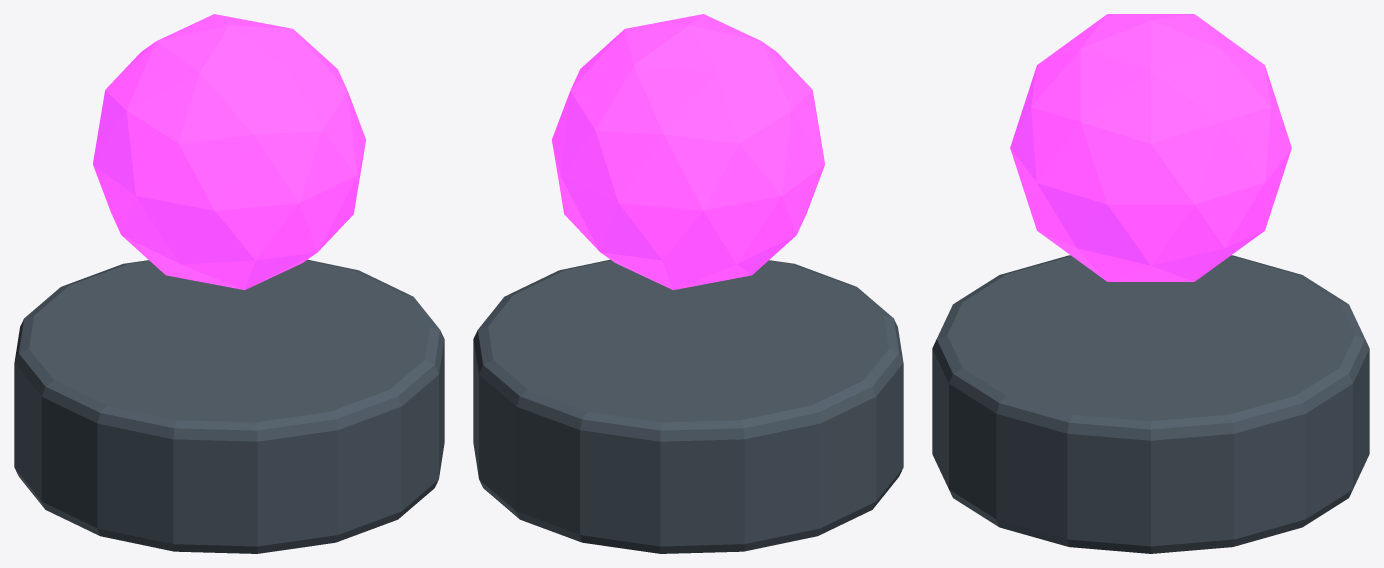
The model's file is Core-Hologram-Dais.glb.
3 renders of one model, left to right at view 1: azimuth 30°, elevation 25°; view 2: azimuth 150°, elevation 25°; view 3: azimuth 270°, elevation 25°, orthographic.
Visible parts, largest first — view 1: Hologram_Dais.001, Core_Hologram.001; view 2: Hologram_Dais.001, Core_Hologram.001; view 3: Hologram_Dais.001, Core_Hologram.001.
Part boxes in pixels (x1,y1,x2,y2): Hologram_Dais.001: (14, 259, 444, 553); Core_Hologram.001: (93, 14, 365, 290); Hologram_Dais.001: (473, 259, 903, 553); Core_Hologram.001: (552, 14, 824, 290); Hologram_Dais.001: (932, 255, 1369, 553); Core_Hologram.001: (1010, 14, 1291, 281).
Size of the model in its own units: 1.8 by 2.03 by 1.8.
